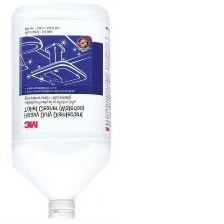cleaning_solution: (7, 0, 114, 222)
